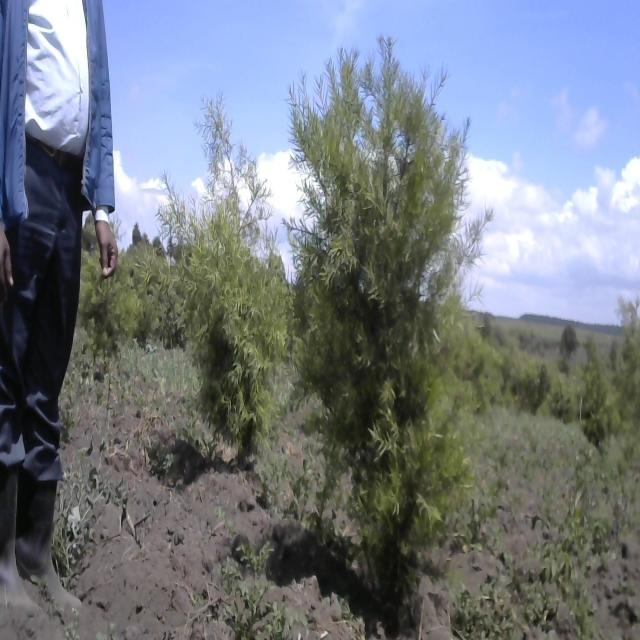Podocarpus falcatus: (290, 60, 481, 543), (166, 85, 282, 443), (80, 209, 141, 394)
